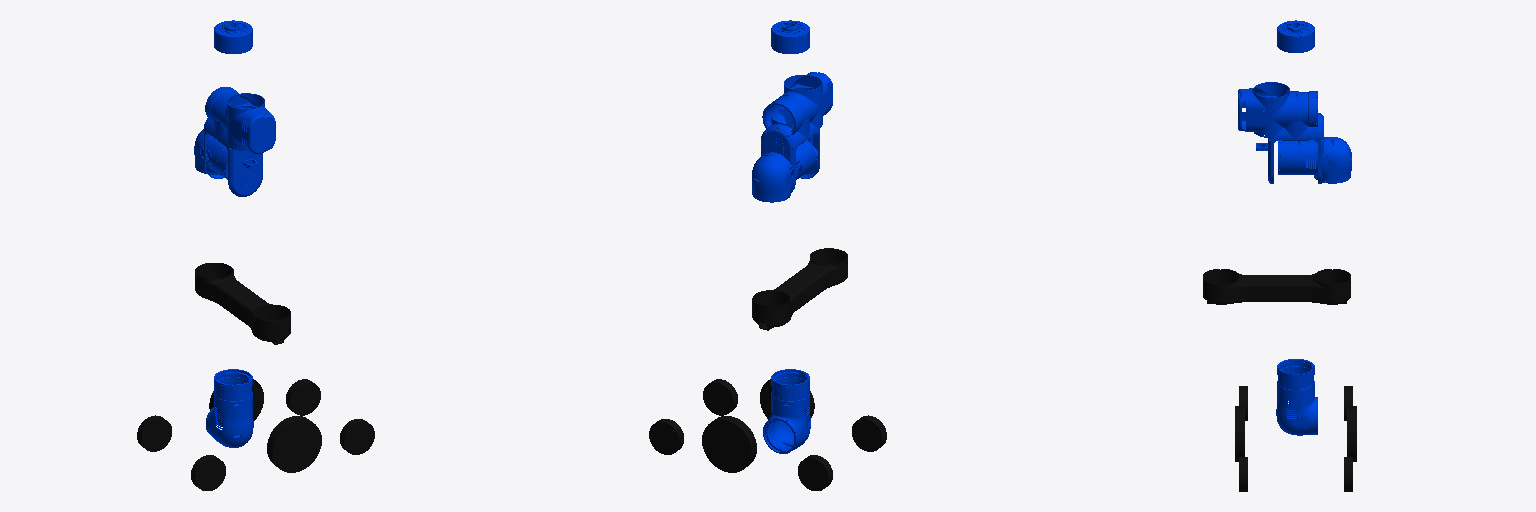
--- Render facts (derived) ---
Views: 3 orthographic renders of the robot side by side, from view 1: azimuth 30°, elevation 25°; view 2: azimuth 150°, elevation 25°; view 3: azimuth 270°, elevation 25°.
Model relax with 33 links and 32 joints (10 revolute, 4 prismatic, 17 fixed, 1 floating), rooted at world, posed every joint at zero.
Visible links, largest first — view 1: relax_arm1_link2, relax_arm1_link5, relax_arm1_link1, right_wheel_link, relax_arm1_link4, relax_arm1_link6, relax_arm1_link3, br_caster_wheel_link, bl_caster_wheel_link, fl_caster_wheel_link, fr_caster_wheel_link; view 2: relax_arm1_link2, relax_arm1_link1, relax_arm1_link5, left_wheel_link, relax_arm1_link3, relax_arm1_link4, relax_arm1_link6, bl_caster_wheel_link, br_caster_wheel_link, fl_caster_wheel_link, fr_caster_wheel_link; view 3: relax_arm1_link2, relax_arm1_link5, relax_arm1_link1, relax_arm1_link3, relax_arm1_link4, relax_arm1_link6, left_wheel_link, right_wheel_link.
Link boxes in pixels (x1,y1,x2,y2): relax_arm1_link2: (195, 263, 290, 344); relax_arm1_link5: (205, 87, 275, 153); relax_arm1_link1: (206, 369, 253, 447); right_wheel_link: (267, 416, 321, 472); relax_arm1_link4: (203, 118, 262, 196); relax_arm1_link6: (214, 20, 252, 53); relax_arm1_link3: (194, 130, 227, 179); br_caster_wheel_link: (191, 455, 225, 490); bl_caster_wheel_link: (137, 415, 171, 451); fl_caster_wheel_link: (286, 379, 320, 415); fr_caster_wheel_link: (340, 419, 374, 454); relax_arm1_link2: (752, 248, 847, 330); relax_arm1_link1: (763, 369, 810, 453); relax_arm1_link5: (762, 72, 832, 134); left_wheel_link: (702, 416, 756, 472); relax_arm1_link3: (752, 140, 815, 202); relax_arm1_link4: (761, 108, 819, 192); relax_arm1_link6: (771, 20, 809, 53); bl_caster_wheel_link: (798, 455, 832, 490); br_caster_wheel_link: (852, 415, 886, 451); fl_caster_wheel_link: (649, 419, 683, 454); fr_caster_wheel_link: (703, 379, 737, 415); relax_arm1_link2: (1203, 269, 1350, 304); relax_arm1_link5: (1238, 82, 1317, 137); relax_arm1_link1: (1276, 359, 1317, 435); relax_arm1_link3: (1278, 137, 1351, 183); relax_arm1_link4: (1256, 113, 1323, 183); relax_arm1_link6: (1277, 20, 1314, 52); left_wheel_link: (1347, 406, 1356, 461); right_wheel_link: (1235, 406, 1244, 461).
Bounding box of the posed robot: 0.7247 × 0.5562 × 1.66 m (x, y, z).
6 mesh visuals loaded from 9 distinct referenced files (6 binary STL); not drawn: 7 (reference not matched to a file when rendering).

URDF robot description (relax):
<?xml version="1.0" ?>
<!-- =================================================================================== -->
<!-- |    This document was autogenerated by xacro from [local-path]/src/forest_ws/src/iit-relax-ros-pkg/relax_urdf/urdf/relax.urdf.xacro | -->
<!-- |    EDITING THIS FILE BY HAND IS NOT RECOMMENDED                                 | -->
<!-- =================================================================================== -->
<robot name="relax">
  <!-- ************SELECT PARTS*************-->
  <!-- *************************************-->
  <!-- color -->
  <material name="darkblue">
    <color rgba="0.0 0.3 0.9 1"/>
  </material>
  <material name="dark">
    <color rgba="0.1 0.1 0.1 1"/>
  </material>
  <!-- ARM -->
  <!-- ARM -->
  <!-- ARM -->
  <!-- ARM -->
  <!-- links -->
  <link name="relax_arm1_link1">
    <!-- link 1 -->
    <inertial>
      <origin xyz="-0.0018991406 0.022645162 0.16741297"/>
      <mass value="6.2381702"/>
      <inertia ixx="0.065816037" ixy="-0.00011791629" ixz="-4.0067927e-05" iyy="0.057828314" iyz="-0.011584403" izz="0.01940196"/>
    </inertial>
    <visual>
      <origin rpy="0 0 0" xyz="0 0 0"/>
      <geometry name="relax_link1_visual">
        <mesh filename="package://relax_urdf/meshes/mesh_link1.stl" scale="0.001 0.001 0.001"/>
      </geometry>
      <material name="darkblue"/>
    </visual>
    <collision>
      <origin rpy="0 0 0" xyz="0 0 0"/>
      <geometry name="relax_link1_collision">
        <mesh filename="package://relax_urdf/meshes/mesh_link1.stl" scale="0.001 0.001 0.001"/>
      </geometry>
    </collision>
  </link>
  <link name="relax_arm1_link2">
    <!-- link 2 -->
    <inertial>
      <origin xyz="-3.1494342e-05 -0.20005579 -0.0057041875"/>
      <mass value="2.601371"/>
      <inertia ixx="0.064570453" ixy="-0.00019926537999999998" ixz="-1.6866045999999998e-06" iyy="0.0051512542" iyz="-2.9627309e-06" izz="0.06672465300000001"/>
    </inertial>
    <visual>
      <origin rpy="0 0 0" xyz="0 0 0"/>
      <geometry name="relax_link2_visual">
        <mesh filename="package://relax_urdf/meshes/mesh_link2.stl" scale="0.001 0.001 0.001"/>
      </geometry>
      <material name="dark"/>
    </visual>
    <collision>
      <origin rpy="0 0 0" xyz="0 0 0"/>
      <geometry name="relax_link2_collision">
        <mesh filename="package://relax_urdf/meshes/mesh_link2.stl" scale="0.001 0.001 0.001"/>
      </geometry>
    </collision>
  </link>
  <link name="relax_arm1_link3">
    <!-- link 3 -->
    <inertial>
      <origin xyz="0.0020858498 -0.078452653 -0.10797347"/>
      <mass value="5.9482803"/>
      <inertia ixx="0.062877846" ixy="0.00011665783" ixz="0.00012931181" iyy="0.018390664" iyz="-0.011034081" izz="0.055056825999999996"/>
    </inertial>
    <visual>
      <origin rpy="0 0 0" xyz="0 0 0"/>
      <geometry name="relax_link3_visual">
        <mesh filename="package://relax_urdf/meshes/mesh_link3.stl" scale="0.001 0.001 0.001"/>
      </geometry>
      <material name="darkblue"/>
    </visual>
    <collision>
      <origin rpy="0 0 0" xyz="0 0 0"/>
      <geometry name="relax_link3_collision">
        <mesh filename="package://relax_urdf/meshes/mesh_link3.stl" scale="0.001 0.001 0.001"/>
      </geometry>
    </collision>
  </link>
  <link name="relax_arm1_link4">
    <!-- link 4 -->
    <inertial>
      <origin xyz="0.00096471566 -0.0042586853 0.046169896"/>
      <mass value="1.6710337"/>
      <inertia ixx="0.017329393999999998" ixy="0.00021094011" ixz="-0.00024511391" iyy="0.010036060999999999" iyz="0.00042230531" izz="0.012350325"/>
    </inertial>
    <visual>
      <origin rpy="0 0 0" xyz="0 0 0"/>
      <geometry name="relax_link4_visual">
        <mesh filename="package://relax_urdf/meshes/mesh_link4.stl" scale="0.001 0.001 0.001"/>
      </geometry>
      <material name="darkblue"/>
    </visual>
    <collision>
      <origin rpy="0 0 0" xyz="0 0 0"/>
      <geometry name="relax_link4_collision">
        <mesh filename="package://relax_urdf/meshes/mesh_link4.stl" scale="0.001 0.001 0.001"/>
      </geometry>
    </collision>
  </link>
  <link name="relax_arm1_link5">
    <!-- link 5 -->
    <inertial>
      <origin xyz="-0.0013991722 0.052618238 -0.08425954199999999"/>
      <mass value="6.181102"/>
      <inertia ixx="0.059736008" ixy="-0.00014975682" ixz="-5.2815066e-05" iyy="0.015244194999999999" iyz="0.0011994937999999999" izz="0.055701504"/>
    </inertial>
    <visual>
      <origin rpy="0 0 0" xyz="0 0 0"/>
      <geometry name="relax_link5_visual">
        <mesh filename="package://relax_urdf/meshes/mesh_link5.stl" scale="0.001 0.001 0.001"/>
      </geometry>
      <material name="darkblue"/>
    </visual>
    <collision>
      <origin rpy="0 0 0" xyz="0 0 0"/>
      <geometry name="relax_link5_collision">
        <mesh filename="package://relax_urdf/meshes/mesh_link5.stl" scale="0.001 0.001 0.001"/>
      </geometry>
    </collision>
  </link>
  <link name="relax_arm1_link6">
    <!-- link 6 -->
    <inertial>
      <origin xyz="0.0005687903199999999 0.0 0.0022653642000000002"/>
      <mass value="0.48141935"/>
      <inertia ixx="0.0008220642" ixy="1.0675057e-07" ixz="3.5319177e-07" iyy="0.00083596992" iyz="0.0" izz="0.0012890535"/>
    </inertial>
    <visual>
      <origin rpy="0 0 0" xyz="0 0 0"/>
      <geometry name="relax_link6_visual">
        <mesh filename="package://relax_urdf/meshes/mesh_link6.stl" scale="0.001 0.001 0.001"/>
      </geometry>
      <material name="darkblue"/>
    </visual>
    <collision>
      <origin rpy="0 0 0" xyz="0 0 0"/>
      <geometry name="relax_link6_collision">
        <mesh filename="package://relax_urdf/meshes/mesh_link6.stl" scale="0.001 0.001 0.001"/>
      </geometry>
    </collision>
  </link>
  <link name="relax_arm1_linkEndEffector"/>
  <!-- link End-Effector -->
  <!-- joints -->
  <joint name="relax_arm1_joint0" type="revolute">
    <!-- joint 1 -->
    <parent link="base_link"/>
    <child link="relax_arm1_link1"/>
    <origin rpy="0.0 0.0 0.0" xyz="-0.13 0.0 0.3613"/>
    <axis xyz="0 0 1"/>
    <limit effort="147.0" lower="-3.14" upper="3.14" velocity="3.86"/>
    <dynamics damping="0.2" friction="10.0"/>
  </joint>
  <joint name="relax_arm1_joint1" type="revolute">
    <!-- joint 1 -->
    <parent link="relax_arm1_link1"/>
    <child link="relax_arm1_link2"/>
    <origin rpy="-1.5707963 0.0 0.0" xyz="0.0 0.13166 0.24966"/>
    <axis xyz="0 0 1"/>
    <limit effort="147.0" lower="-3.14" upper="3.14" velocity="3.86"/>
    <dynamics damping="0.2" friction="10.0"/>
  </joint>
  <joint name="relax_arm1_joint2" type="revolute">
    <!-- joint 2 -->
    <parent link="relax_arm1_link2"/>
    <child link="relax_arm1_link3"/>
    <origin rpy="0.0 0.0 0.0" xyz="0.0 -0.4 0.0"/>
    <axis xyz="0 0 1"/>
    <limit effort="147.0" lower="-3.14" upper="3.14" velocity="3.86"/>
    <dynamics damping="0.2" friction="10.0"/>
  </joint>
  <joint name="relax_arm1_joint3" type="revolute">
    <!-- joint 3 -->
    <parent link="relax_arm1_link3"/>
    <child link="relax_arm1_link4"/>
    <origin rpy="1.5707963 0.0 0.0" xyz="0.0 -0.24966 -0.13166"/>
    <axis xyz="0 0 1"/>
    <limit effort="147.0" lower="-3.14" upper="3.14" velocity="3.86"/>
    <dynamics damping="0.2" friction="10.0"/>
  </joint>
  <joint name="relax_arm1_joint4" type="revolute">
    <!-- joint 4 -->
    <parent link="relax_arm1_link4"/>
    <child link="relax_arm1_link5"/>
    <origin rpy="1.5707963 0.0 0.0" xyz="0.0 -0.08816 0.1535"/>
    <axis xyz="0 0 1"/>
    <limit effort="147.0" lower="-3.14" upper="3.14" velocity="3.86"/>
    <dynamics damping="0.2" friction="10.0"/>
  </joint>
  <joint name="relax_arm1_joint5" type="revolute">
    <!-- joint 5 -->
    <parent link="relax_arm1_link5"/>
    <child link="relax_arm1_link6"/>
    <origin rpy="-1.5707963 0.0 0.0" xyz="0.0 0.22216 -0.08816"/>
    <axis xyz="0 0 1"/>
    <limit effort="147.0" lower="-3.14" upper="3.14" velocity="3.86"/>
    <dynamics damping="0.2" friction="10.0"/>
  </joint>
  <joint name="relax_arm1_joint6" type="fixed">
    <!-- joint 6 fake -->
    <parent link="relax_arm1_link6"/>
    <child link="relax_arm1_linkEndEffector"/>
    <origin rpy="0.0 0.0 0.0" xyz="0.0 0.0 0.028"/>
    <axis xyz="0 0 1"/>
    <limit effort="147.0" lower="-3.14" upper="3.14" velocity="3.86"/>
    <dynamics damping="0.2" friction="10.0"/>
  </joint>
  <!-- end_effector attached -->
  <!-- <xacro:if value="${ADD_END_EFFECTOR}">
      <xacro:include filename="$(find relax_urdf)/urdf/parts/end_effector.urdf.xacro" />

      <xacro:end_effector arm_num="1"  parent_link="arm1_7">
                  <origin xyz="0. 0. 0." rpy="0. 0. 0."/>
      </xacro:end_effector>

      <xacro:end_effector arm_num="2"  parent_link="arm2_7">
                  <origin xyz="0. 0. 0." rpy="0. 0. 0."/>
      </xacroend_effector>
</xacro:if> -->
  <link name="base_footprint"/>
  <joint name="base_joint" type="fixed">
    <parent link="base_footprint"/>
    <child link="base_link"/>
    <origin rpy="0 0 0" xyz="0 0 0"/>
  </joint>
  <link name="base_link">
    <inertial>
      <mass value="97.0"/>
      <origin rpy="0 0 0" xyz="-0.054485000000000006 0.0 0.15"/>
      <inertia ixx="1.050832913" ixy="0.0" ixz="0.0" iyy="2.344165729" iyz="0.0" izz="2.7483322339999994"/>
    </inertial>
    <visual>
      <origin rpy="0 0 0" xyz="-0.004485 0 0"/>
      <geometry>
        <mesh filename="package://relax_urdf/meshes/mesh_base_revised.stl" scale="0.001 0.001 0.001"/>
      </geometry>
      <material name="dark_grey">
        <color rgba="0.3 0.3 0.3 1"/>
      </material>
    </visual>
    <collision>
      <origin rpy="0 0 0" xyz="-0.004485 0 0"/>
      <geometry>
        <mesh filename="package://relax_urdf/meshes/mesh_base_revised.stl" scale="0.001 0.001 0.001"/>
      </geometry>
    </collision>
  </link>
  <gazebo reference="base_link">
    <material>Gazebo/DarkGrey</material>
  </gazebo>
  <!-- IMU -->
  <joint name="base_link_to_imu_joint" type="fixed">
    <parent link="base_link"/>
    <child link="imu_link"/>
    <origin rpy="0 0 0" xyz="0.0 0.0 0.25"/>
    <!-- same as real MiR -->
  </joint>
  <link name="imu_link"/>
  <gazebo>
    <plugin filename="libhector_gazebo_ros_imu.so" name="imu_plugin">
      <updateRate>50.0</updateRate>
      <bodyName>imu_link</bodyName>
      <frameId>imu_frame</frameId>
      <!-- from real MiR -->
      <topicName>imu_data</topicName>
      <accelDrift>0.0 0.0 0.0</accelDrift>
      <accelGaussianNoise>0.007071067811865475 0.01 0.011401754250991379</accelGaussianNoise>
      <!-- real MiR linear_acceleration_covariance: [5e-05, 0.0, 0.0, 0.0, 0.0001, 0.0, 0.0, 0.0, 0.00013] -->
      <rateDrift>0.0 0.0 0.0</rateDrift>
      <rateGaussianNoise>0.00282842712474619 0.00282842712474619 0.0005477225575051661</rateGaussianNoise>
      <!-- real MiR angular_velocity_covariance: [8e-06, 0.0, 0.0, 0.0, 8e-06, 0.0, 0.0, 0.0, 3e-07] -->
      <yawDrift>0.0</yawDrift>
      <yawGaussianNoise>0.31622776601683794</yawGaussianNoise>
      <!-- real MiR orientation_covariance: [0.1, 0.0, 0.0, 0.0, 0.1, 0.0, 0.0, 0.0, 0.1] -->
    </plugin>
  </gazebo>
  <!-- Create an alias for imu_link. This is necessary because the real MiR's
         TF has imu_link, but the imu_data topic is published in the imu_frame
         frame. -->
  <joint name="imu_link_to_imu_frame_joint" type="fixed">
    <parent link="imu_link"/>
    <child link="imu_frame"/>
    <origin rpy="0 0 0" xyz="0 0 0"/>
  </joint>
  <link name="imu_frame"/>
  <!-- Laser scanners -->
  <joint name="base_link_to_front_laser_joint" type="fixed">
    <parent link="base_link"/>
    <child link="front_laser_link"/>
    <origin rpy="0.0 0.0 0.7853981633974483" xyz="0.310515 0.205 0.1914"/>
  </joint>
  <link name="front_laser_link">
    <visual>
      <origin rpy="3.141592653589793 0 0" xyz="0.0 0.0 0.0"/>
      <geometry>
        <mesh filename="package://relax_urdf/meshes/sick_lms-100.stl"/>
      </geometry>
      <!-- <xacro:insert_block name="material_yellow" /> -->
      <material name="black">
        <color rgba="0.1 0.1 0.1 1"/>
      </material>
    </visual>
    <collision>
      <origin rpy="3.141592653589793 0 0" xyz="0.0 0.0 0.0"/>
      <geometry>
        <mesh filename="package://relax_urdf/meshes/sick_lms-100.stl"/>
      </geometry>
    </collision>
    <inertial>
      <mass value="1.2"/>
      <origin xyz="0 0 0"/>
      <inertia ixx="0.005824997669999999" ixy="0.0" ixz="0.0" iyy="0.00585609765756" iyz="0.0" izz="0.00483609806556"/>
    </inertial>
  </link>
  <gazebo reference="front_laser_link">
    <!-- <material value="Gazebo/Yellow" /> -->
    <material value="Gazebo/FlatBlack"/>
    <sensor name="front_laser_link" type="ray">
      <pose>0 0 0 0 0 0</pose>
      <visualize>false</visualize>
      <update_rate>12.5</update_rate>
      <ray>
        <scan>
          <horizontal>
            <samples>541</samples>
            <resolution>1</resolution>
            <!-- has to be 1; actual resolution will be computed from number of samples + min_angle/max_angle -->
            <min_angle>-2.35619449615</min_angle>
            <max_angle>2.35619449615</max_angle>
          </horizontal>
        </scan>
        <range>
          <min>0.05</min>
          <max>29.0</max>
          <resolution>0.01</resolution>
        </range>
        <noise>
          <type>gaussian</type>
          <!-- Noise parameters based on published spec for S300 achieving
                 "+-29mm" accuracy at range < 3m (~0.01 of the range) at
                 1 sigma. -->
          <mean>0.0</mean>
          <stddev>0.01</stddev>
        </noise>
      </ray>
      <plugin filename="libgazebo_ros_laser.so" name="gazebo_ros_front_laser_link_controller">
        <frameName>front_laser_link</frameName>
        <topicName>f_scan</topicName>
      </plugin>
    </sensor>
  </gazebo>
  <joint name="base_link_to_back_laser_joint" type="fixed">
    <parent link="base_link"/>
    <child link="back_laser_link"/>
    <origin rpy="0.0 0.0 -2.356194490192345" xyz="-0.319485 -0.205 0.1914"/>
  </joint>
  <link name="back_laser_link">
    <visual>
      <origin rpy="3.141592653589793 0 0" xyz="0.0 0.0 0.0"/>
      <geometry>
        <mesh filename="package://relax_urdf/meshes/sick_lms-100.stl"/>
      </geometry>
      <!-- <xacro:insert_block name="material_yellow" /> -->
      <material name="black">
        <color rgba="0.1 0.1 0.1 1"/>
      </material>
    </visual>
    <collision>
      <origin rpy="3.141592653589793 0 0" xyz="0.0 0.0 0.0"/>
      <geometry>
        <mesh filename="package://relax_urdf/meshes/sick_lms-100.stl"/>
      </geometry>
    </collision>
    <inertial>
      <mass value="1.2"/>
      <origin xyz="0 0 0"/>
      <inertia ixx="0.005824997669999999" ixy="0.0" ixz="0.0" iyy="0.00585609765756" iyz="0.0" izz="0.00483609806556"/>
    </inertial>
  </link>
  <gazebo reference="back_laser_link">
    <!-- <material value="Gazebo/Yellow" /> -->
    <material value="Gazebo/FlatBlack"/>
    <sensor name="back_laser_link" type="ray">
      <pose>0 0 0 0 0 0</pose>
      <visualize>false</visualize>
      <update_rate>12.5</update_rate>
      <ray>
        <scan>
          <horizontal>
            <samples>541</samples>
            <resolution>1</resolution>
            <!-- has to be 1; actual resolution will be computed from number of samples + min_angle/max_angle -->
            <min_angle>-2.35619449615</min_angle>
            <max_angle>2.35619449615</max_angle>
          </horizontal>
        </scan>
        <range>
          <min>0.05</min>
          <max>29.0</max>
          <resolution>0.01</resolution>
        </range>
        <noise>
          <type>gaussian</type>
          <!-- Noise parameters based on published spec for S300 achieving
                 "+-29mm" accuracy at range < 3m (~0.01 of the range) at
                 1 sigma. -->
          <mean>0.0</mean>
          <stddev>0.01</stddev>
        </noise>
      </ray>
      <plugin filename="libgazebo_ros_laser.so" name="gazebo_ros_back_laser_link_controller">
        <frameName>back_laser_link</frameName>
        <topicName>b_scan</topicName>
      </plugin>
    </sensor>
  </gazebo>
  <!-- Ultrasound sensors -->
  <joint name="us_1_joint" type="fixed">
    <!-- right ultrasound -->
    <parent link="base_link"/>
    <child link="us_1_frame"/>
    <origin rpy="0 0 0" xyz="0.45 -0.12 0.16 "/>
    <!-- from visually matching to the mesh of the MiR -->
  </joint>
  <link name="us_1_frame"/>
  <joint name="us_2_joint" type="fixed">
    <!-- left ultrasound -->
    <parent link="base_link"/>
    <child link="us_2_frame"/>
    <origin rpy="0 0 0" xyz="0.45 0.12 0.16 "/>
    <!-- from visually matching to the mesh of the MiR -->
  </joint>
  <link name="us_2_frame"/>
  <!-- wheels MANUALLY DONE FOR HIGH LEVEL CONTROL -->
  <joint name="left_wheel_joint" type="revolute">
    <origin rpy="0 0 0" xyz="0.0 0.2015 0.1"/>
    <parent link="base_link"/>
    <child link="left_wheel_link"/>
    <axis xyz="0 0 1"/>
    <limit effort="2" lower="-1e9" upper="1e9" velocity="2.0"/>
  </joint>
  <link name="left_wheel_link">
    <inertial>
      <mass value="1.0"/>
      <origin rpy="0 0 0" xyz="0 0 0"/>
      <inertia ixx="0.0026203322852000007" ixy="0.0" ixz="0.0" iyy="0.0026203322852000007" iyz="0.0" izz="0.005000000000000001"/>
    </inertial>
    <visual>
      <origin rpy="1.5707963267948966 0 0" xyz="0 0 0"/>
      <geometry>
        <cylinder length="0.038" radius="0.1"/>
      </geometry>
      <material name="black">
        <color rgba="0.1 0.1 0.1 1"/>
      </material>
    </visual>
    <collision>
      <origin rpy="1.5707963267948966 0 0" xyz="0 0 0"/>
      <geometry>
        <cylinder length="0.038" radius="0.1"/>
      </geometry>
    </collision>
  </link>
  <gazebo reference="left_wheel_link">
    <material>Gazebo/FlatBlack</material>
  </gazebo>
  <joint name="fl_caster_rotation_joint" type="prismatic">
    <origin rpy="0 0 0" xyz="0.299215 0.188 0.1565"/>
    <parent link="base_link"/>
    <child link="fl_caster_rotation_link"/>
    <axis xyz="1 0 0"/>
    <limit effort="2" lower="-1e9" upper="1e9" velocity="2.0"/>
    <dynamics damping="0.01" friction="0.0"/>
  </joint>
  <link name="fl_caster_rotation_link">
    <inertial>
      <!-- <origin xyz="0 0 -0.042500000044" rpy="${0.5 * pi} ${24 * deg_to_rad} ${1.5 * pi}" /> -->
      <origin rpy="0 0 0" xyz="0 0 -0.042500000044"/>
      <!-- ${24 * deg_to_rad} 0 ${0.5 * pi} -->
      <mass value="0.3097539019"/>
      <inertia ixx="0.0005844517978" ixy="0" ixz="0" iyy="0.00052872551237" iyz="0" izz="0.00017923555074"/>
    </inertial>
    <visual>
      <origin rpy="0 0 0" xyz="0 0 0"/>
      <geometry>
        <mesh filename="package://relax_urdf/meshes/caster_wheel_base.stl"/>
      </geometry>
      <material name="black">
        <color rgba="0.1 0.1 0.1 1"/>
      </material>
    </visual>
    <collision>
      <origin rpy="0 0 0" xyz="0 0 0"/>
      <geometry>
        <mesh filename="package://relax_urdf/meshes/caster_wheel_base.stl"/>
      </geometry>
    </collision>
  </link>
  <gazebo reference="fl_caster_rotation_link">
    <material>Gazebo/FlatBlack</material>
  </gazebo>
  <joint name="fl_caster_wheel_joint" type="fixed">
    <origin rpy="0 0 0" xyz="-0.0382 0 -0.094"/>
    <parent link="fl_caster_rotation_link"/>
    <child link="fl_caster_wheel_link"/>
    <axis xyz="0 1 0"/>
    <limit effort="2" lower="-1e9" upper="1e9" velocity="2.0"/>
  </joint>
  <link name="fl_caster_wheel_link">
    <inertial>
      <mass value="1.0"/>
      <origin rpy="0 0 0" xyz="0 0 0"/>
      <inertia ixx="0.001061895408575" ixy="0.0" ixz="0.0" iyy="0.001061895408575" iyz="0.0" izz="0.001953125"/>
    </inertial>
    <visual>
      <origin rpy="1.57 0 0" xyz="0 0 0"/>
      <!--${pi/2} 0 0 -->
      <geometry>
        <cylinder length="0.032" radius="0.0625"/>
      </geometry>
      <material name="black">
        <color rgba="0.1 0.1 0.1 1"/>
      </material>
    </visual>
    <collision>
      <origin rpy="1.57 0 0" xyz="0 0 0"/>
      <!--${pi/2} 0 0 -->
      <geometry>
        <cylinder length="0.032" radius="0.0625"/>
      </geometry>
    </collision>
  </link>
  <gazebo reference="fl_caster_wheel_link">
    <material>Gazebo/FlatBlack</material>
  </gazebo>
  <joint name="right_wheel_joint" type="fixed">
    <origin rpy="0 0 0" xyz="0.0 -0.2015 0.1"/>
    <parent link="base_link"/>
    <child link="right_wheel_link"/>
    <axis xyz="0 1 0"/>
    <limit effort="100" velocity="20.0"/>
  </joint>
  <link name="right_wheel_link">
    <inertial>
      <mass value="1.0"/>
      <origin rpy="0 0 0" xyz="0 0 0"/>
      <inertia ixx="0.0026203322852000007" ixy="0.0" ixz="0.0" iyy="0.0026203322852000007" iyz="0.0" izz="0.005000000000000001"/>
    </inertial>
    <visual>
      <origin rpy="1.5707963267948966 0 0" xyz="0 0 0"/>
      <geometry>
        <cylinder length="0.038" radius="0.1"/>
      </geometry>
      <material name="black">
        <color rgba="0.1 0.1 0.1 1"/>
      </material>
    </visual>
    <collision>
      <origin rpy="1.5707963267948966 0 0" xyz="0 0 0"/>
      <geometry>
        <cylinder length="0.038" radius="0.1"/>
      </geometry>
    </collision>
  </link>
  <gazebo reference="right_wheel_link">
    <material>Gazebo/FlatBlack</material>
  </gazebo>
  <!-- caster hub -->
  <joint name="fr_caster_rotation_joint" type="fixed">
    <origin rpy="0 0 0" xyz="0.299215 -0.188 0.1565"/>
    <parent link="base_link"/>
    <child link="fr_caster_rotation_link"/>
    <axis xyz="0 0 1"/>
    <dynamics damping="0.01" friction="0.0"/>
  </joint>
  <link name="fr_caster_rotation_link">
    <inertial>
      <!-- <origin xyz="0 0 -0.042500000044" rpy="${0.5 * pi} ${24 * deg_to_rad} ${1.5 * pi}" /> -->
      <origin rpy="0 0 0" xyz="0 0 -0.042500000044"/>
      <!-- ${24 * deg_to_rad} 0 ${0.5 * pi} -->
      <mass value="0.3097539019"/>
      <inertia ixx="0.0005844517978" ixy="0" ixz="0" iyy="0.00052872551237" iyz="0" izz="0.00017923555074"/>
    </inertial>
    <visual>
      <origin rpy="0 0 0" xyz="0 0 0"/>
      <geometry>
        <mesh filename="package://relax_urdf/meshes/caster_wheel_base.stl"/>
      </geometry>
      <material name="black">
        <color rgba="0.1 0.1 0.1 1"/>
      </material>
    </visual>
    <collision>
      <origin rpy="0 0 0" xyz="0 0 0"/>
      <geometry>
        <mesh filename="package://relax_urdf/meshes/caster_wheel_base.stl"/>
      </geometry>
    </collision>
  </link>
  <gazebo reference="fr_caster_rotation_link">
    <material>Gazebo/FlatBlack</material>
  </gazebo>
  <!-- caster wheel -->
  <joint name="fr_caster_wheel_joint" type="fixed">
    <origin rpy="0 0 0" xyz="-0.0382 0 -0.094"/>
    <parent link="fr_caster_rotation_link"/>
    <child link="fr_caster_wheel_link"/>
    <axis xyz="0 1 0"/>
  </joint>
  <link name="fr_caster_wheel_link">
    <inertial>
      <mass value="1.0"/>
      <origin rpy="0 0 0" xyz="0 0 0"/>
      <inertia ixx="0.001061895408575" ixy="0.0" ixz="0.0" iyy="0.001061895408575" iyz="0.0" izz="0.001953125"/>
    </inertial>
    <visual>
      <origin rpy="1.5707963267948966 0 0" xyz="0 0 0"/>
      <!--${pi/2} 0 0 -->
      <geometry>
        <cylinder length="0.032" radius="0.0625"/>
      </geometry>
      <material name="black">
        <color rgba="0.1 0.1 0.1 1"/>
      </material>
    </visual>
    <collision>
      <origin rpy="1.5707963267948966 0 0" xyz="0 0 0"/>
      <!--${pi/2} 0 0 -->
      <geometry>
        <cylinder length="0.032" radius="0.0625"/>
      </geometry>
    </collision>
  </link>
  <gazebo reference="fr_caster_wheel_link">
    <material>Gazebo/FlatBlack</material>
  </gazebo>
  <!-- caster hub -->
  <joint name="bl_caster_rotation_joint" type="fixed">
    <origin rpy="0 0 0" xyz="-0.300485 0.188 0.1565"/>
    <parent link="base_link"/>
    <child link="bl_caster_rotation_link"/>
    <axis xyz="0 0 1"/>
    <dynamics damping="0.01" friction="0.0"/>
  </joint>
  <link name="bl_caster_rotation_link">
    <inertial>
      <!-- <origin xyz="0 0 -0.042500000044" rpy="${0.5 * pi} ${24 * deg_to_rad} ${1.5 * pi}" /> -->
      <origin rpy="0 0 0" xyz="0 0 -0.042500000044"/>
      <!-- ${24 * deg_to_rad} 0 ${0.5 * pi} -->
      <mass value="0.3097539019"/>
      <inertia ixx="0.0005844517978" ixy="0" ixz="0" iyy="0.00052872551237" iyz="0" izz="0.00017923555074"/>
    </inertial>
    <visual>
      <origin rpy="0 0 0" xyz="0 0 0"/>
      <geometry>
        <mesh filename="package://relax_urdf/meshes/caster_wheel_base.stl"/>
      </geometry>
      <material name="black">
        <color rgba="0.1 0.1 0.1 1"/>
      </material>
    </visual>
    <collision>
      <origin rpy="0 0 0" xyz="0 0 0"/>
      <geometry>
        <mesh filename="package://relax_urdf/meshes/caster_wheel_base.stl"/>
      </geometry>
    </collision>
  </link>
  <gazebo reference="bl_caster_rotation_link">
    <material>Gazebo/FlatBlack</material>
  </gazebo>
  <!-- caster wheel -->
  <joint name="bl_caster_wheel_joint" type="fixed">
    <origin rpy="0 0 0" xyz="-0.0382 0 -0.094"/>
    <parent link="bl_caster_rotation_link"/>
    <child link="bl_caster_wheel_link"/>
    <axis xyz="0 1 0"/>
  </joint>
  <link name="bl_caster_wheel_link">
    <inertial>
      <mass value="1.0"/>
      <origin rpy="0 0 0" xyz="0 0 0"/>
      <inertia ixx="0.001061895408575" ixy="0.0" ixz="0.0" iyy="0.001061895408575" iyz="0.0" izz="0.001953125"/>
    </inertial>
    <visual>
      <origin rpy="1.5707963267948966 0 0" xyz="0 0 0"/>
      <!--${pi/2} 0 0 -->
      <geometry>
        <cylinder length="0.032" radius="0.0625"/>
      </geometry>
      <material name="black">
        <color rgba="0.1 0.1 0.1 1"/>
      </material>
    </visual>
    <collision>
      <origin rpy="1.5707963267948966 0 0" xyz="0 0 0"/>
      <!--${pi/2} 0 0 -->
      <geometry>
        <cylinder length="0.032" radius="0.0625"/>
      </geometry>
    </collision>
  </link>
  <gazebo reference="bl_caster_wheel_link">
    <material>Gazebo/FlatBlack</material>
  </gazebo>
  <!-- caster hub -->
  <joint name="br_caster_rotation_joint" type="fixed">
    <origin rpy="0 0 0" xyz="-0.300485 -0.188 0.1565"/>
    <parent link="base_link"/>
    <child link="br_caster_rotation_link"/>
    <axis xyz="0 0 1"/>
    <dynamics damping="0.01" friction="0.0"/>
  </joint>
  <link name="br_caster_rotation_link">
    <inertial>
      <!-- <origin xyz="0 0 -0.042500000044" rpy="${0.5 * pi} ${24 * deg_to_rad} ${1.5 * pi}" /> -->
      <origin rpy="0 0 0" xyz="0 0 -0.042500000044"/>
      <!-- ${24 * deg_to_rad} 0 ${0.5 * pi} -->
      <mass value="0.3097539019"/>
      <inertia ixx="0.0005844517978" ixy="0" ixz="0" iyy="0.00052872551237" iyz="0" izz="0.00017923555074"/>
    </inertial>
    <visual>
      <origin rpy="0 0 0" xyz="0 0 0"/>
      <geometry>
        <mesh filename="package://relax_urdf/meshes/caster_wheel_base.stl"/>
      </geometry>
      <material name="black">
        <color rgba="0.1 0.1 0.1 1"/>
      </material>
    </visual>
    <collision>
      <origin rpy="0 0 0" xyz="0 0 0"/>
      <geometry>
        <mesh filename="package://relax_urdf/meshes/caster_wheel_base.stl"/>
      </geometry>
    </collision>
  </link>
  <gazebo reference="br_caster_rotation_link">
    <material>Gazebo/FlatBlack</material>
  </gazebo>
  <!-- caster wheel -->
  <joint name="br_caster_wheel_joint" type="fixed">
    <origin rpy="0 0 0" xyz="-0.0382 0 -0.094"/>
    <parent link="br_caster_rotation_link"/>
    <child link="br_caster_wheel_link"/>
    <axis xyz="0 1 0"/>
  </joint>
  <link name="br_caster_wheel_link">
    <inertial>
      <mass value="1.0"/>
      <origin rpy="0 0 0" xyz="0 0 0"/>
      <inertia ixx="0.001061895408575" ixy="0.0" ixz="0.0" iyy="0.001061895408575" iyz="0.0" izz="0.001953125"/>
    </inertial>
    <visual>
      <origin rpy="1.5707963267948966 0 0" xyz="0 0 0"/>
      <!--${pi/2} 0 0 -->
      <geometry>
        <cylinder length="0.032" radius="0.0625"/>
      </geometry>
      <material name="black">
        <color rgba="0.1 0.1 0.1 1"/>
      </material>
    </visual>
    <collision>
      <origin rpy="1.5707963267948966 0 0" xyz="0 0 0"/>
      <!--${pi/2} 0 0 -->
      <geometry>
        <cylinder length="0.032" radius="0.0625"/>
      </geometry>
    </collision>
  </link>
  <gazebo reference="br_caster_wheel_link">
    <material>Gazebo/FlatBlack</material>
  </gazebo>
  <joint name="base_link_surface_joint" type="fixed">
    <origin rpy="0 0 0" xyz="-0.004485 0 0.352"/>
    <parent link="base_link"/>
    <child link="surface"/>
    <axis xyz="0 0 1"/>
  </joint>
  <link name="surface"/>
  <transmission name="left_wheel_trans">
    <type>transmission_interface/SimpleTransmission</type>
    <joint name="left_wheel_joint">
      <hardwareInterface>hardware_interface/VelocityJointInterface</hardwareInterface>
    </joint>
    <actuator name="left_wheel_motor">
      <hardwareInterface>hardware_interface/VelocityJointInterface</hardwareInterface>
      <mechanicalReduction>1</mechanicalReduction>
    </actuator>
  </transmission>
  <transmission name="right_wheel_trans">
    <type>transmission_interface/SimpleTransmission</type>
    <joint name="right_wheel_joint">
      <hardwareInterface>hardware_interface/VelocityJointInterface</hardwareInterface>
    </joint>
    <actuator name="right_wheel_motor">
      <hardwareInterface>hardware_interface/VelocityJointInterface</hardwareInterface>
      <mechanicalReduction>1</mechanicalReduction>
    </actuator>
  </transmission>
  <gazebo reference="left_wheel_link">
    <mu1 value="200"/>
    <mu2 value="200"/>
    <kp value="10000000.0"/>
    <kd value="1.0"/>
    <minDepth>0.01</minDepth>
  </gazebo>
  <gazebo reference="right_wheel_link">
    <mu1 value="200"/>
    <mu2 value="200"/>
    <kp value="10000000.0"/>
    <kd value="1.0"/>
    <minDepth>0.01</minDepth>
  </gazebo>
  <gazebo reference="fl_caster_wheel_link">
    <mu1 value="1"/>
    <mu2 value="1"/>
    <kp value="10000000.0"/>
    <kd value="1.0"/>
    <minDepth>0.01</minDepth>
  </gazebo>
  <gazebo reference="fr_caster_wheel_link">
    <mu1 value="1"/>
    <mu2 value="1"/>
    <kp value="10000000.0"/>
    <kd value="1.0"/>
    <minDepth>0.01</minDepth>
  </gazebo>
  <gazebo reference="bl_caster_wheel_link">
    <mu1 value="1"/>
    <mu2 value="1"/>
    <kp value="10000000.0"/>
    <kd value="1.0"/>
    <minDepth>0.01</minDepth>
  </gazebo>
  <gazebo reference="br_caster_wheel_link">
    <mu1 value="1"/>
    <mu2 value="1"/>
    <kp value="10000000.0"/>
    <kd value="1.0"/>
    <minDepth>0.01</minDepth>
  </gazebo>
  <gazebo>
    <plugin filename="libgazebo_ros_p3d.so" name="p3d_base_controller">
      <alwaysOn>true</alwaysOn>
      <updateRate>50.0</updateRate>
      <bodyName>base_footprint</bodyName>
      <topicName>base_pose_ground_truth</topicName>
      <gaussianNoise>0.01</gaussianNoise>
      <frameName>map</frameName>
      <xyzOffsets>0 0 0</xyzOffsets>
      <rpyOffsets>0 0 0</rpyOffsets>
    </plugin>
  </gazebo>
  <link name="world"/>
  <joint name="world_joint" type="floating">
    <parent link="world"/>
    <child link="base_footprint"/>
  </joint>
  <!-- car frame virtual joints -->
  <joint name="car_frame_tx" type="prismatic">
    <parent link="base_footprint"/>
    <origin xyz="0.0 0.0 0.0"/>
    <child link="car_frame_intermediate_1"/>
    <axis xyz="1 0 0"/>
    <limit effort="1000" lower="-1e9" upper="1e9" velocity="10.0"/>
  </joint>
  <link name="car_frame_intermediate_1">
    <inertial>
      <mass value="0.0"/>
      <inertia ixx="0.0" ixy="0.0" ixz="0.0" iyy="0.0" iyz="0.0" izz="0.0"/>
    </inertial>
  </link>
  <joint name="car_frame_ty" type="prismatic">
    <parent link="car_frame_intermediate_1"/>
    <origin xyz="0.0 0.0 0.0"/>
    <child link="car_frame_intermediate_2"/>
    <axis xyz="0 1 0"/>
    <limit effort="1000" lower="-1e9" upper="1e9" velocity="10.0"/>
  </joint>
  <link name="car_frame_intermediate_2">
    <inertial>
      <mass value="0.0"/>
      <inertia ixx="0.0" ixy="0.0" ixz="0.0" iyy="0.0" iyz="0.0" izz="0.0"/>
    </inertial>
  </link>
  <joint name="car_frame_tz" type="prismatic">
    <parent link="car_frame_intermediate_2"/>
    <origin xyz="0.0 0.0 0.0"/>
    <child link="car_frame_intermediate_3"/>
    <axis xyz="0 0 1"/>
    <limit effort="1000" lower="-1e9" upper="1e9" velocity="10.0"/>
  </joint>
  <link name="car_frame_intermediate_3">
    <inertial>
      <mass value="0.0"/>
      <inertia ixx="0.0" ixy="0.0" ixz="0.0" iyy="0.0" iyz="0.0" izz="0.0"/>
    </inertial>
  </link>
  <joint name="car_frame_rx" type="revolute">
    <parent link="car_frame_intermediate_3"/>
    <origin xyz="0.0 0.0 0.0"/>
    <child link="car_frame_intermediate_4"/>
    <axis xyz="1 0 0"/>
    <limit effort="1000" lower="-1e9" upper="1e9" velocity="10.0"/>
  </joint>
  <link name="car_frame_intermediate_4">
    <inertial>
      <mass value="0.0"/>
      <inertia ixx="0.0" ixy="0.0" ixz="0.0" iyy="0.0" iyz="0.0" izz="0.0"/>
    </inertial>
  </link>
  <joint name="car_frame_ry" type="revolute">
    <parent link="car_frame_intermediate_4"/>
    <origin xyz="0.0 0.0 0.0"/>
    <child link="car_frame_intermediate_5"/>
    <axis xyz="0 1 0"/>
    <limit effort="1000" lower="-1e9" upper="1e9" velocity="10.0"/>
  </joint>
  <link name="car_frame_intermediate_5">
    <inertial>
      <mass value="0.0"/>
      <inertia ixx="0.0" ixy="0.0" ixz="0.0" iyy="0.0" iyz="0.0" izz="0.0"/>
    </inertial>
  </link>
  <joint name="car_frame_rz" type="revolute">
    <parent link="car_frame_intermediate_5"/>
    <origin xyz="0.0 0.0 0.0"/>
    <child link="car_frame"/>
    <axis xyz="0 0 1"/>
    <limit effort="1000" lower="-1e9" upper="1e9" velocity="10.0"/>
  </joint>
  <link name="car_frame">
    <inertial>
      <mass value="0.0"/>
      <inertia ixx="0.0" ixy="0.0" ixz="0.0" iyy="0.0" iyz="0.0" izz="0.0"/>
    </inertial>
  </link>
</robot>
